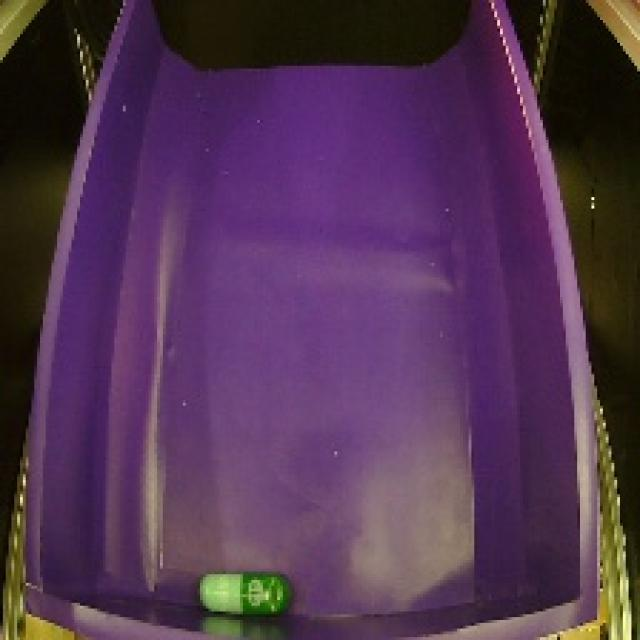small: (195, 560, 299, 632)
